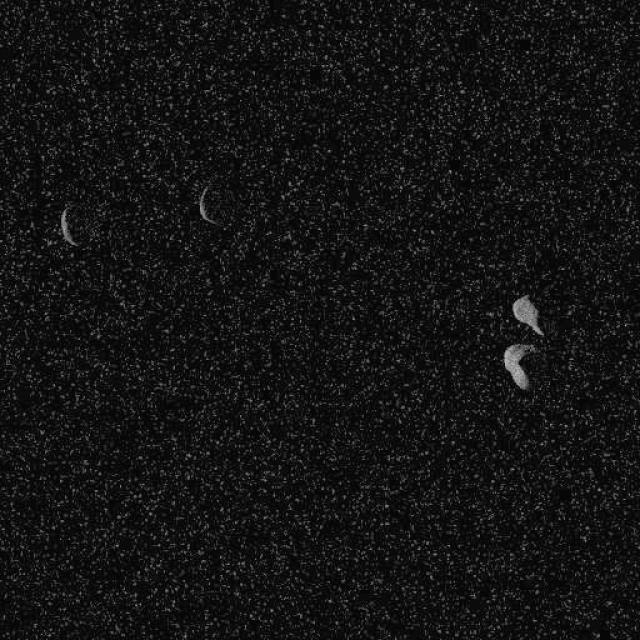D2: (502, 341, 536, 391), (196, 182, 232, 228), (511, 292, 545, 336), (59, 205, 81, 246)
